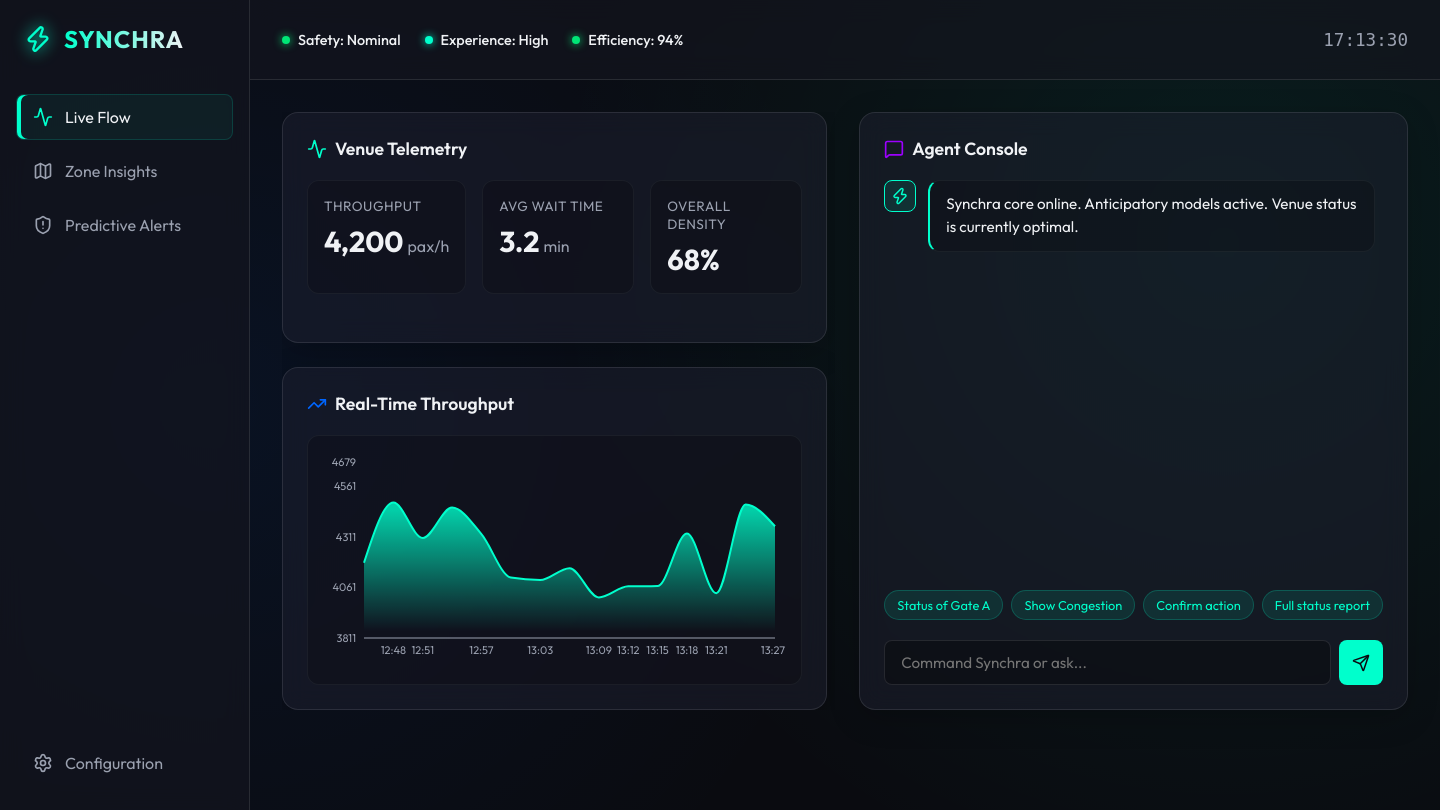
Test: Synchra App – Tab Navigation › switches to Predictive Alerts panel on tab click
Step 1. Click the button "Predictive Alerts" → (124, 225), box [16,202,233,248]
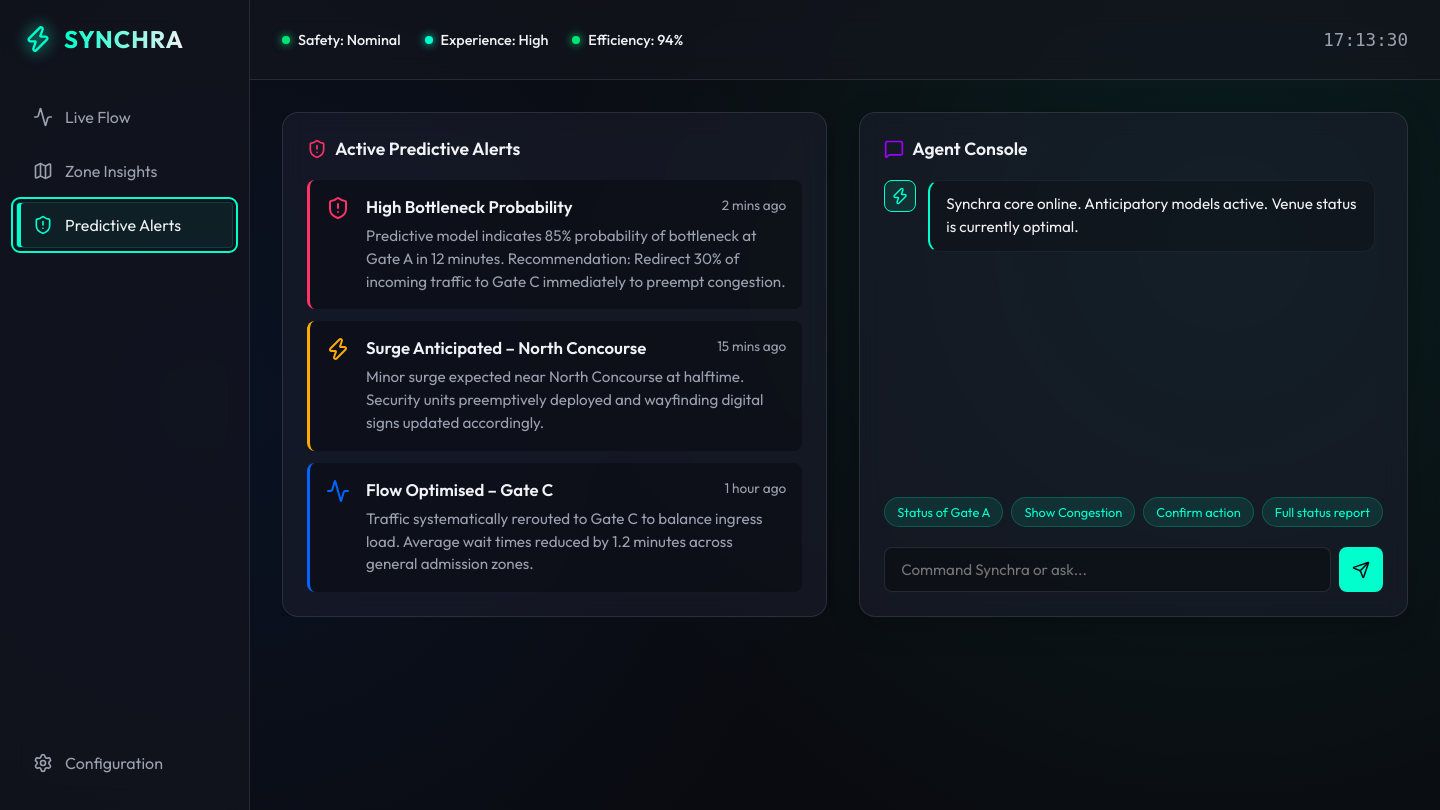
Now the text "Active Predictive Alerts" is shown, box [307,137,520,160]
